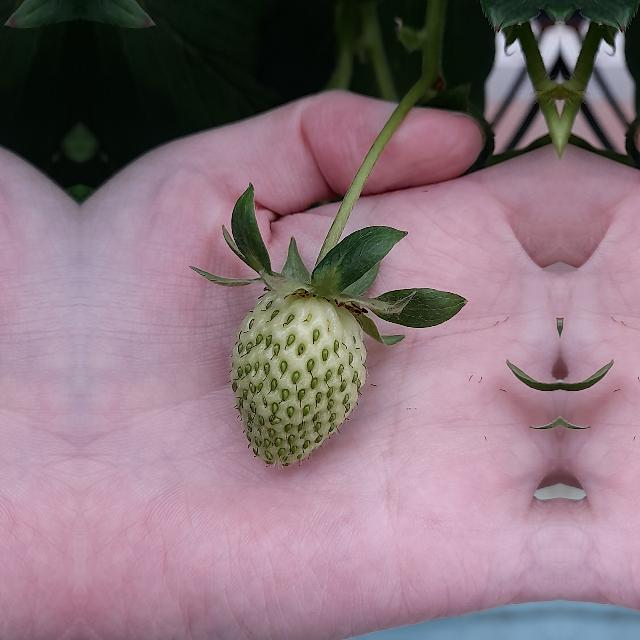Health_25: (230, 289, 366, 465)
